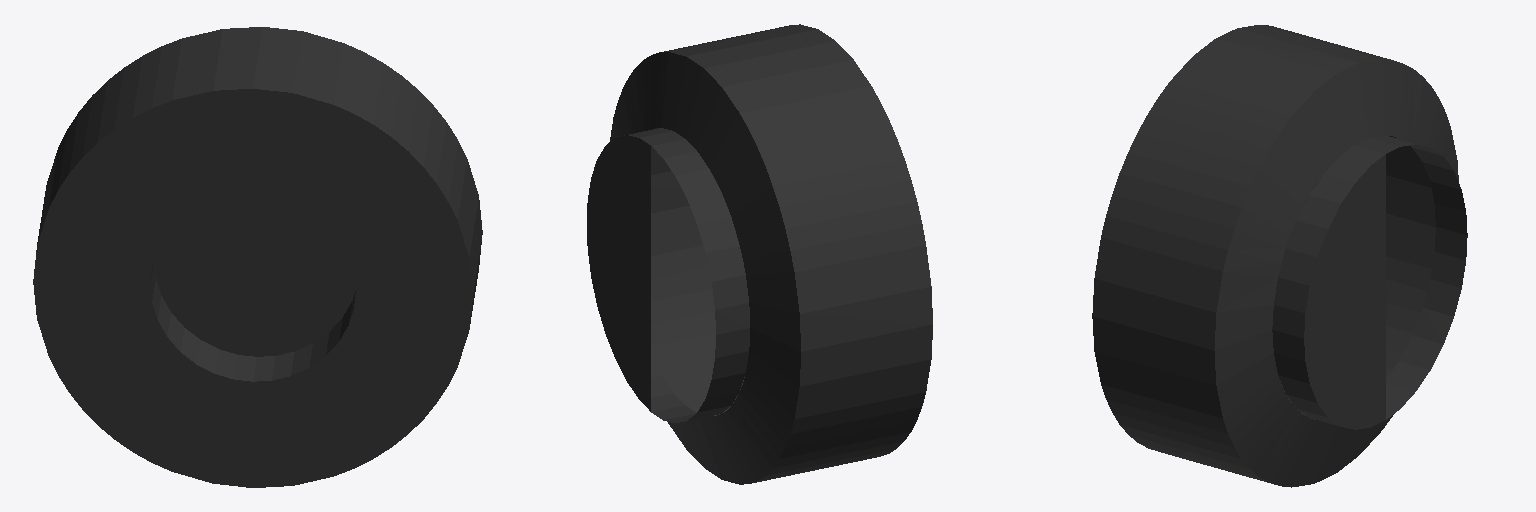
Rendered from handwheel.obj.
The picture shows the model from 3 angles: view 1: azimuth 30°, elevation 25°; view 2: azimuth 150°, elevation 25°; view 3: azimuth 270°, elevation 25°; orthographic projection.
Parts seen in each view (by area): view 1: NONE_DC_Shell; view 2: NONE_DC_Shell; view 3: NONE_DC_Shell.
Boxes of the visible parts, <box> form: NONE_DC_Shell: <box>33,27,482,487</box>; NONE_DC_Shell: <box>587,24,932,484</box>; NONE_DC_Shell: <box>1092,25,1467,487</box>.
Bounding box in the file's own units: 30.49 × 30 × 25.54.